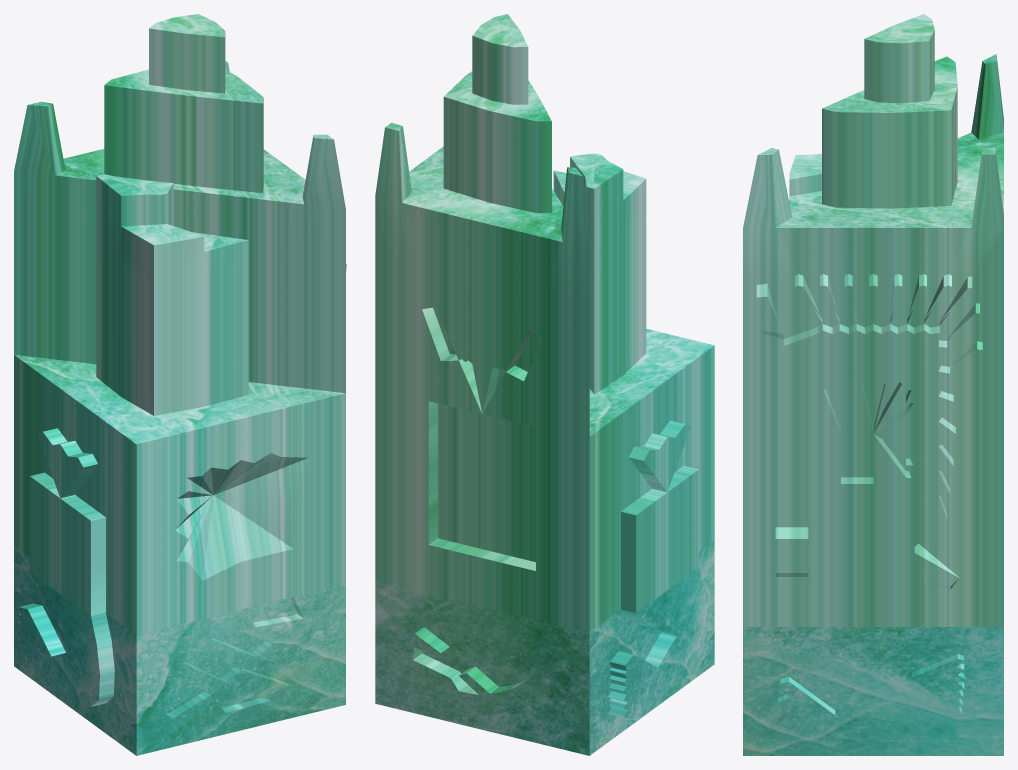
The model's file is Ruin 3.fbx.
3 renders of one model, left to right at view 1: azimuth 30°, elevation 25°; view 2: azimuth 150°, elevation 25°; view 3: azimuth 270°, elevation 25°, orthographic. The views are drawn at different scales.
Visible parts, largest first — view 1: Ruin_3; view 2: Ruin_3; view 3: Ruin_3.
Boxes of the visible parts, bbox=[...] form: Ruin_3: bbox=[14, 14, 346, 755]; Ruin_3: bbox=[375, 14, 714, 755]; Ruin_3: bbox=[743, 14, 1003, 755].
Size of the model in its own units: 2.05 by 5.3 by 1.83.
Materials: 1 (1 with a texture image).
